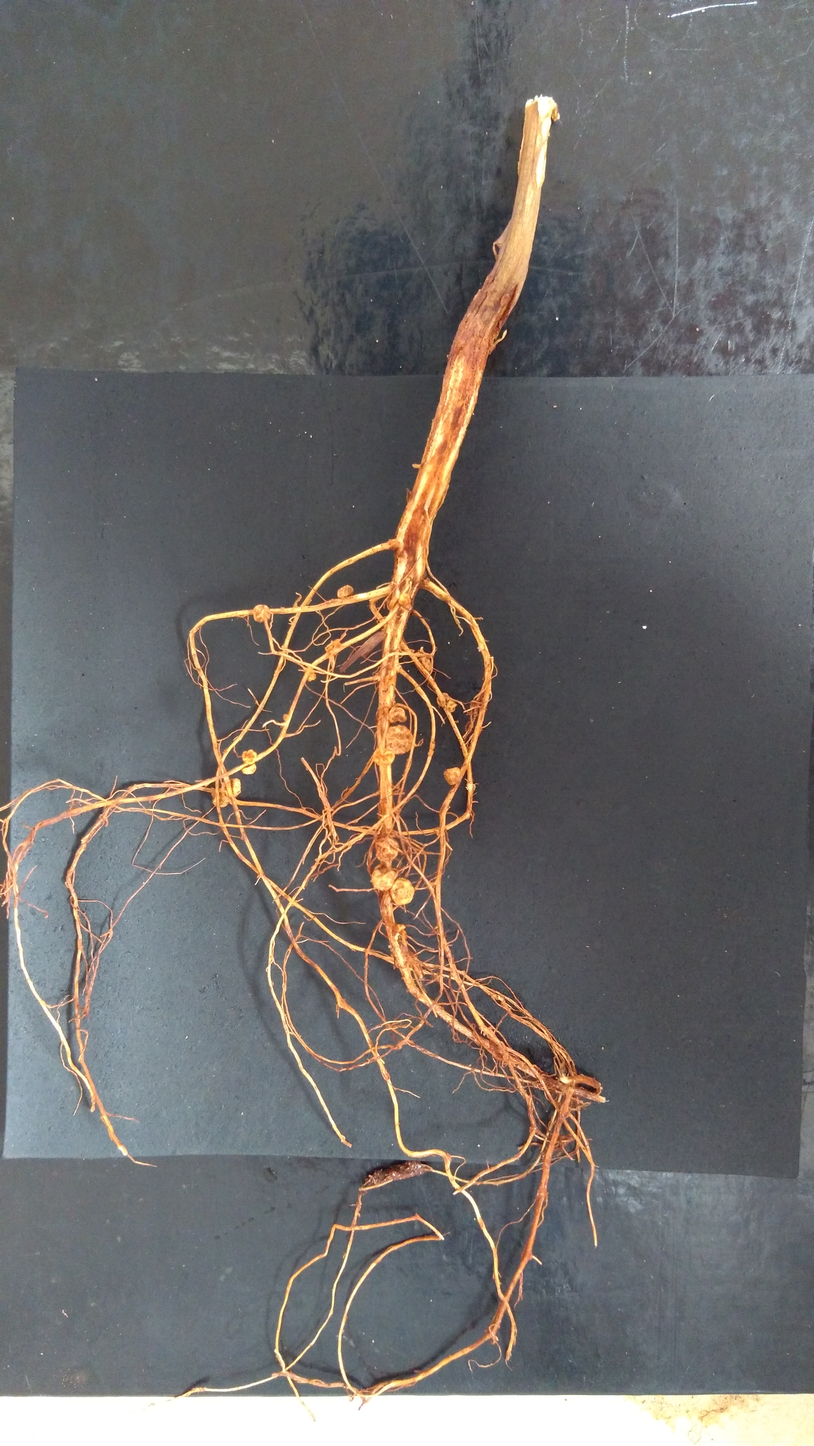nodule: (385, 724, 415, 754), (370, 863, 397, 891), (389, 877, 415, 905), (374, 836, 400, 863), (221, 778, 241, 799), (373, 746, 395, 765), (212, 787, 231, 808), (252, 604, 271, 623), (388, 706, 407, 724), (444, 767, 461, 785), (435, 692, 450, 709), (337, 584, 355, 598), (242, 749, 257, 765), (326, 639, 341, 654), (418, 656, 432, 672), (303, 666, 316, 681), (398, 592, 411, 607), (242, 763, 257, 775), (446, 699, 457, 713), (388, 597, 399, 610), (392, 923, 406, 932), (394, 931, 406, 941), (465, 782, 477, 791), (282, 714, 289, 721)
